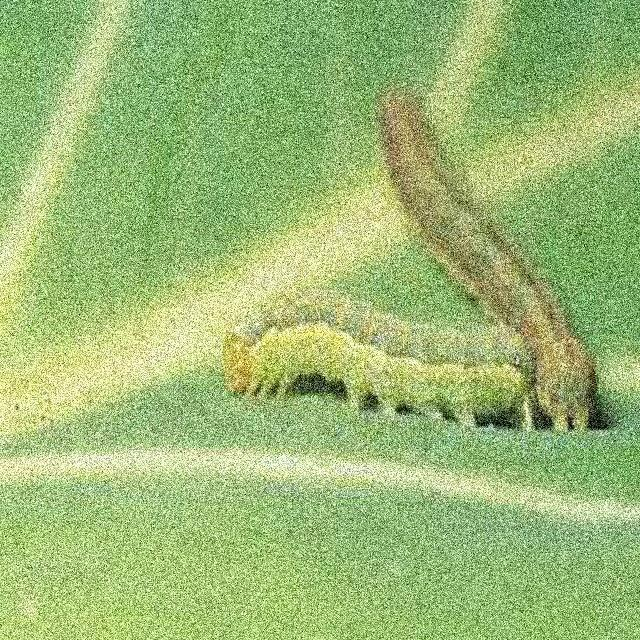gusano_cogollero: (224, 82, 606, 430)
